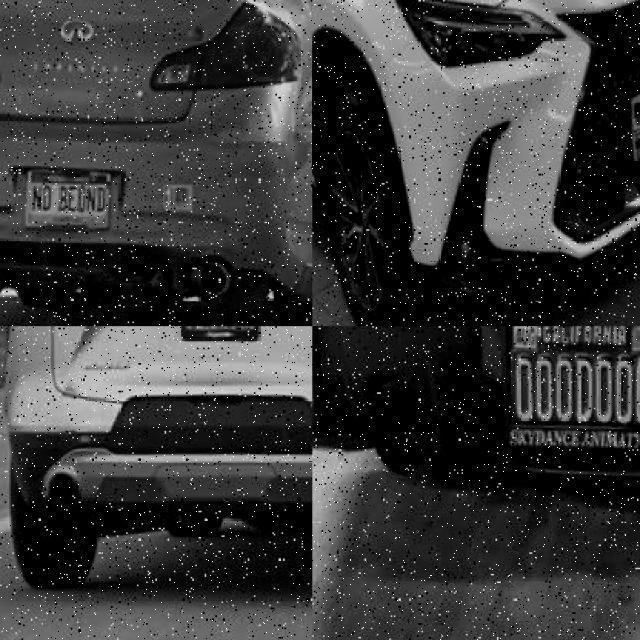LicensePlate: (502, 325, 639, 446), (28, 164, 113, 228), (182, 325, 260, 337)
